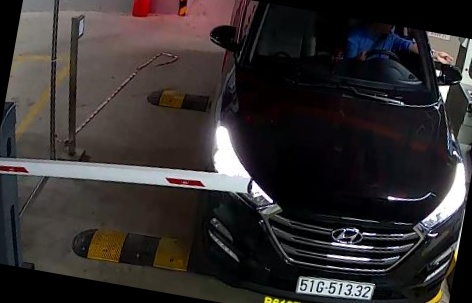plate: (292, 269, 372, 299)
